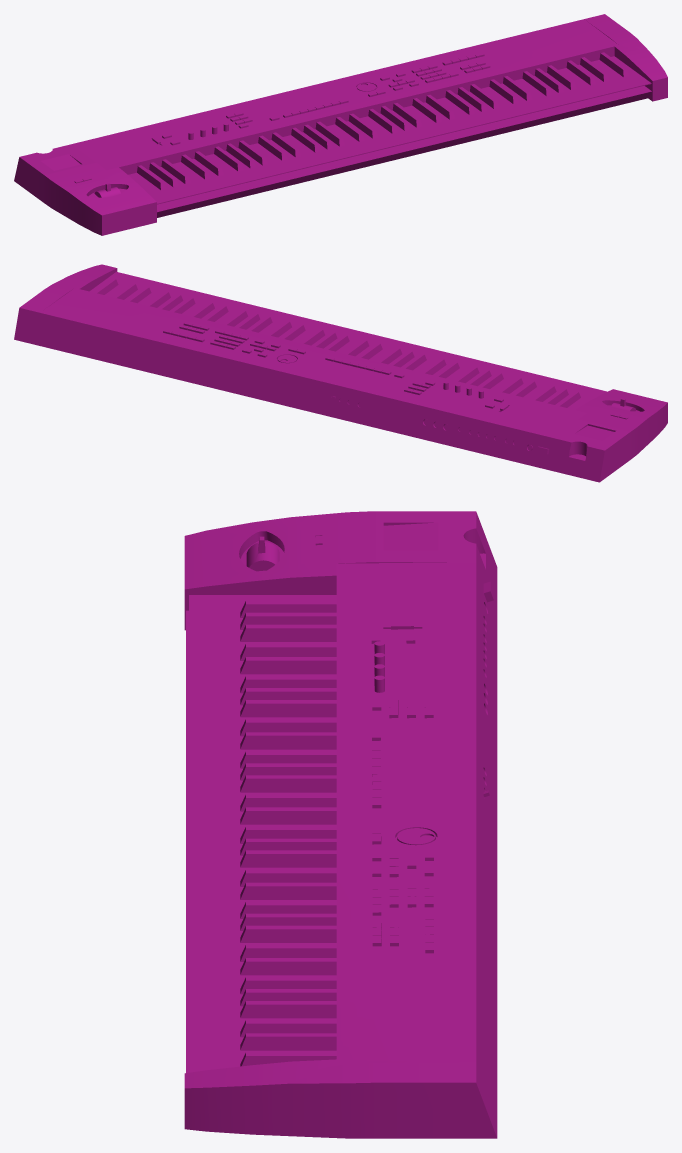
The model's file is synth1.obj.
The picture shows the model from 3 angles, top to bottom: view 1: azimuth 30°, elevation 25°; view 2: azimuth 150°, elevation 25°; view 3: azimuth 270°, elevation 25°; orthographic projection. The views are drawn at different scales.
Visible parts, largest first — view 1: Layer0_001; view 2: Layer0_001; view 3: Layer0_001.
Boxes of the visible parts, x1=… form: Layer0_001: x1=14, y1=14, x2=667, y2=235; Layer0_001: x1=14, y1=264, x2=667, y2=482; Layer0_001: x1=184, y1=511, x2=497, y2=1138.
Size of the model in its own units: 15538 by 862 by 3594.
